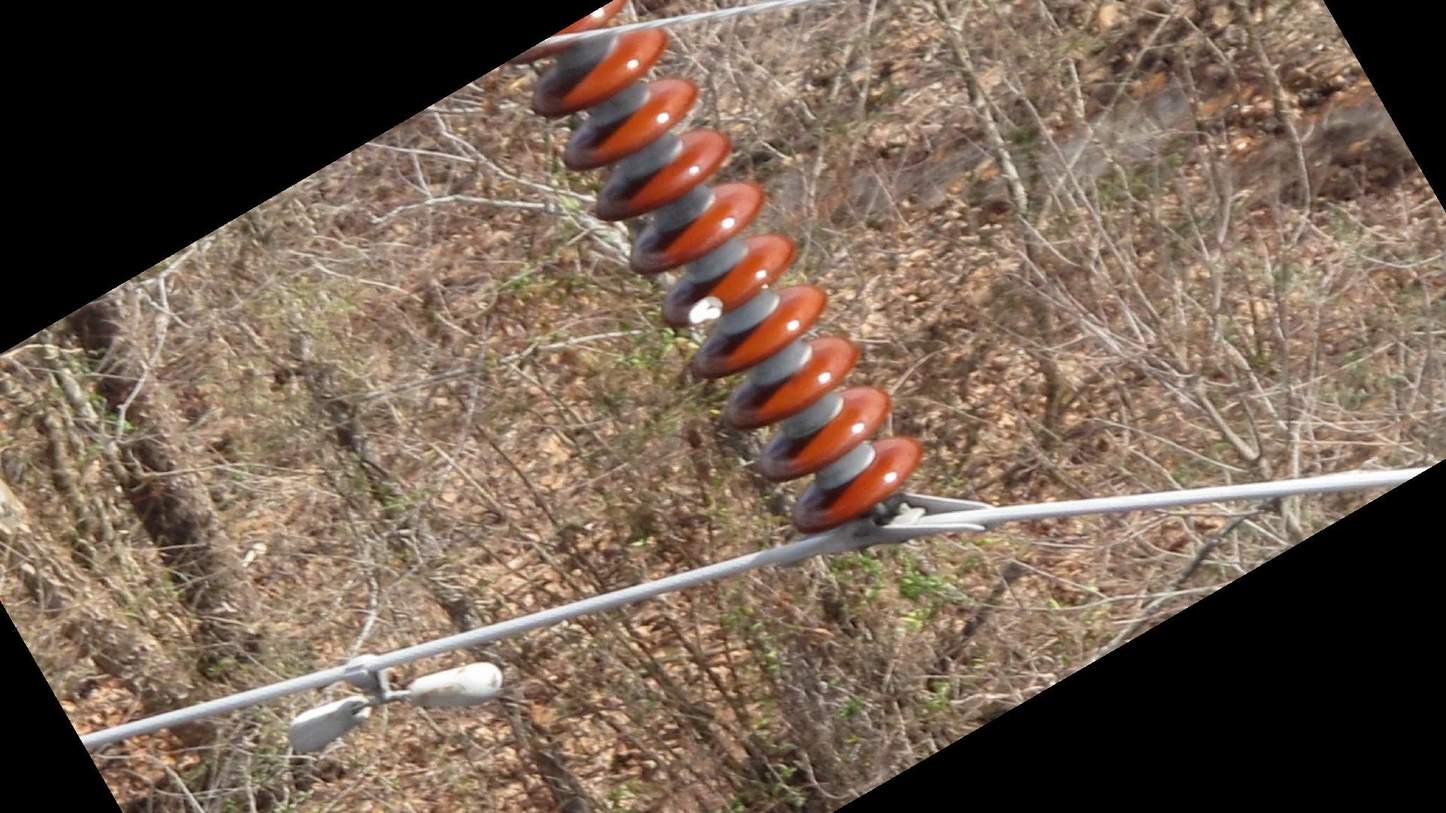insulator: (511, 1, 929, 539)
insulator_breakage: (682, 291, 730, 329)
